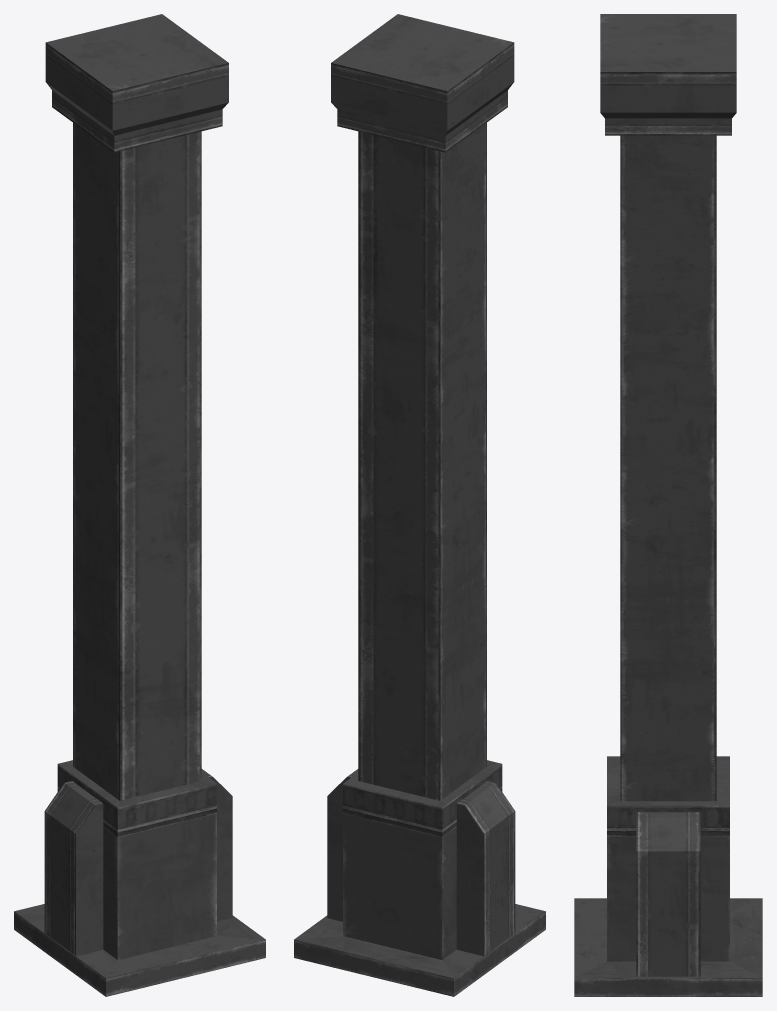
File: CP_Fence_A_Post_01.fbx
The picture shows the model from 3 angles, left to right: view 1: azimuth 30°, elevation 25°; view 2: azimuth 150°, elevation 25°; view 3: azimuth 270°, elevation 25°; orthographic projection. The views are drawn at different scales.
Visible parts, largest first — view 1: CP_Fence_A_Post_01; view 2: CP_Fence_A_Post_01; view 3: CP_Fence_A_Post_01.
Part boxes in pixels (x1,y1,x2,y2): CP_Fence_A_Post_01: [14, 14, 265, 996]; CP_Fence_A_Post_01: [294, 14, 545, 996]; CP_Fence_A_Post_01: [574, 14, 762, 996].
Size of the model in its own units: 49.7 by 265 by 49.46.
